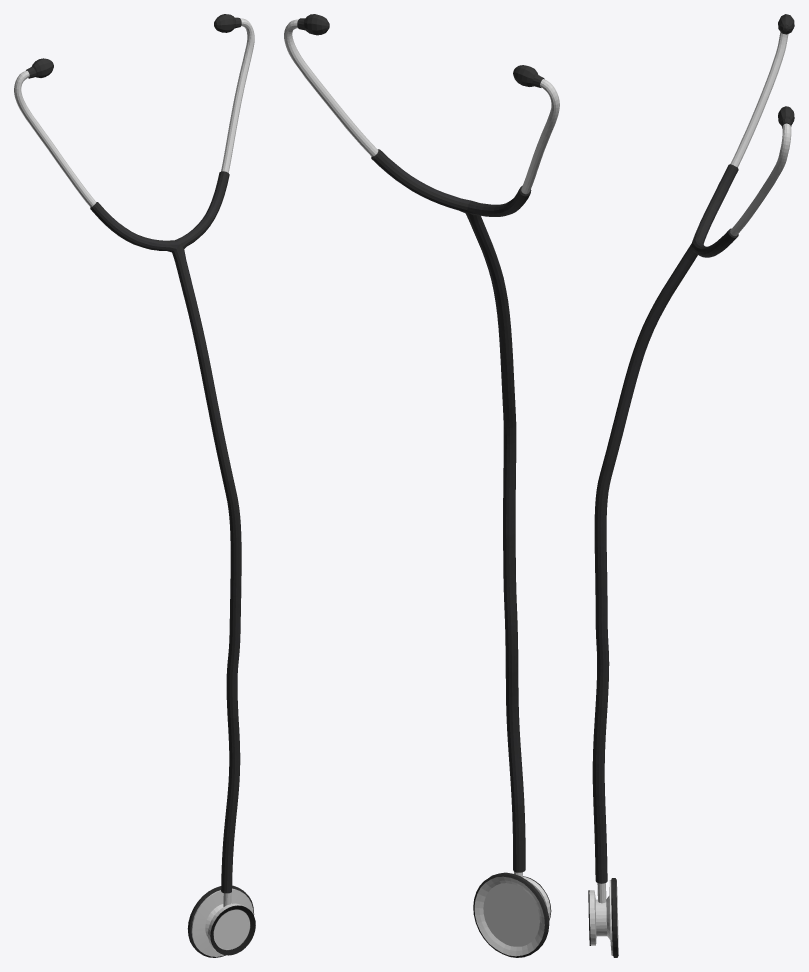
The model's file is mhw_punkduck_stethoscope.glb.
3 views of the same model, side by side, from view 1: azimuth 30°, elevation 25°; view 2: azimuth 150°, elevation 25°; view 3: azimuth 270°, elevation 25° (orthographic). The views are drawn at different scales.
Visible parts, largest first — view 1: mhw_punkduck_stethoscope; view 2: mhw_punkduck_stethoscope; view 3: mhw_punkduck_stethoscope.
Part boxes in pixels (x1,y1,x2,y2): mhw_punkduck_stethoscope: (14,14,255,957); mhw_punkduck_stethoscope: (284,14,559,957); mhw_punkduck_stethoscope: (588,14,794,957).
Bounding box in the file's own units: 0.1917 × 0.659 × 0.1383.
Materials: 1 (1 with a texture image).
